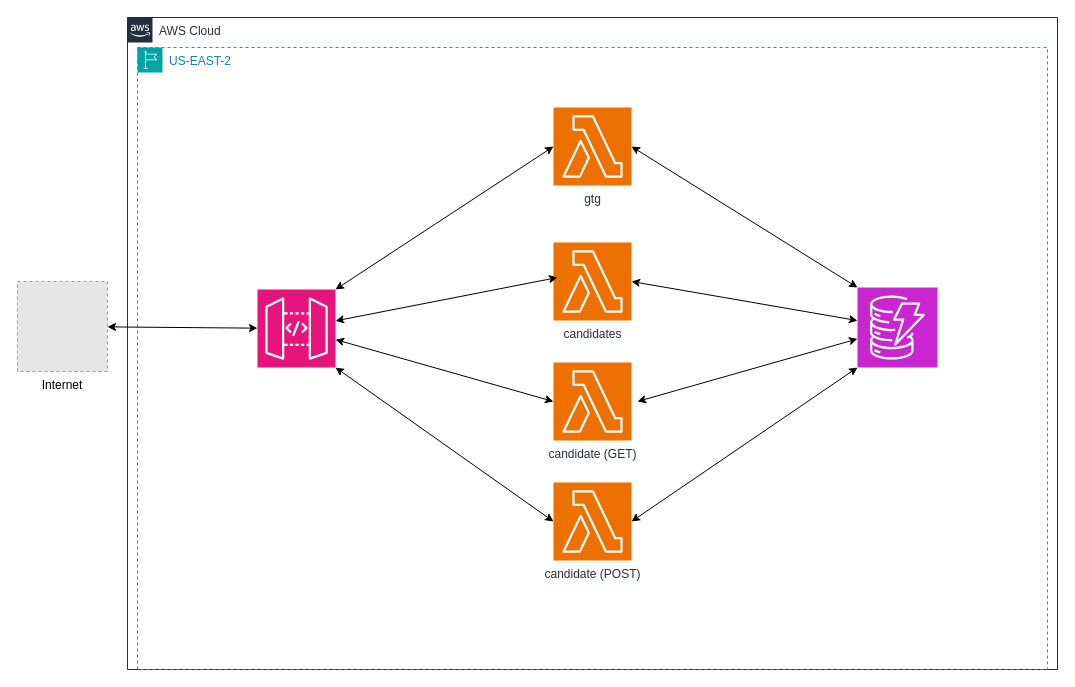
Some shapes in this 1075 by 687 pixel diagram are drawn without their labels. Grey dashed boxes stand in for pictures. The shapes that lost their labels are listed below. From the top down, each one's centre as x and y in pixels, then its label:
pixel 296 328: flask api HTTP Routes
pixel 897 327: Dynamo DB Candidates Table
